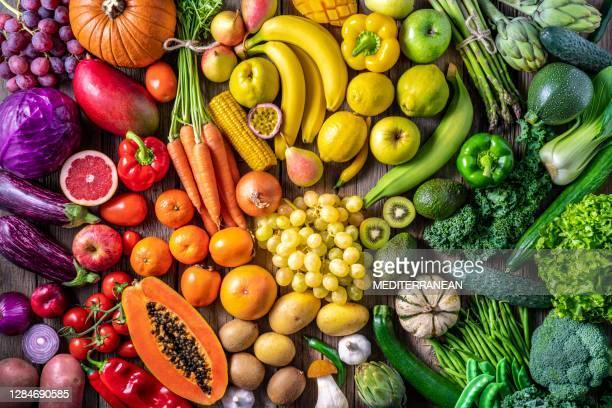apple: (72, 224, 123, 270)
